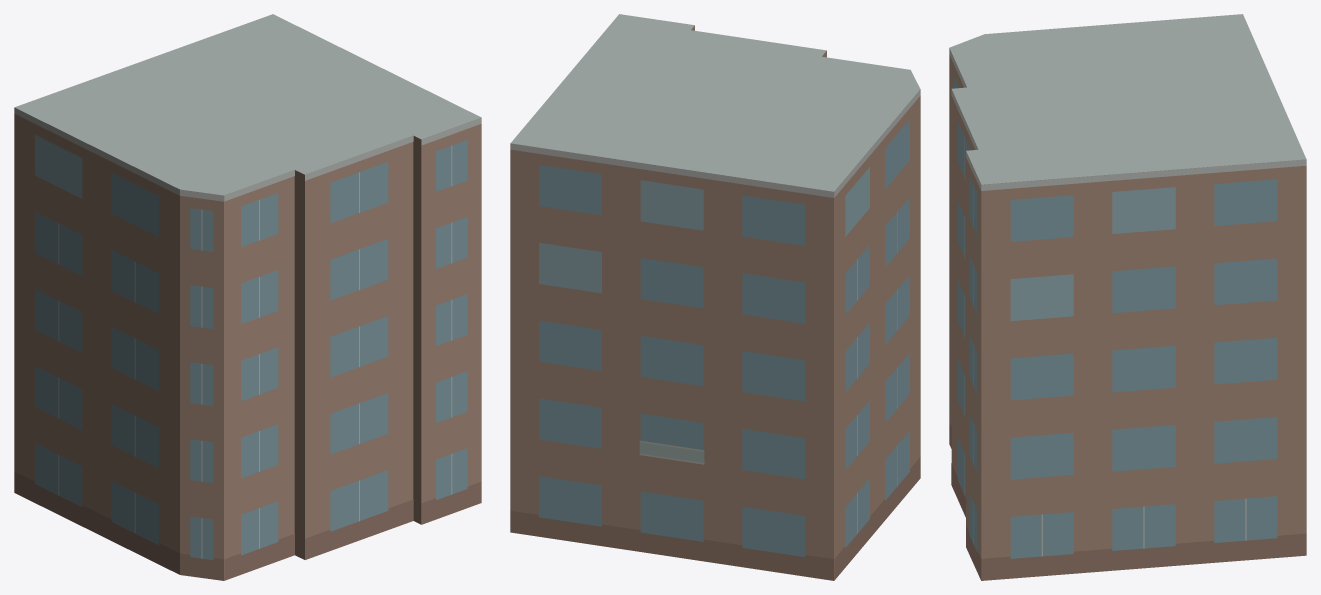
File: survey-upis-32950586.glb
3 views of the same model, side by side, from view 1: azimuth 30°, elevation 25°; view 2: azimuth 150°, elevation 25°; view 3: azimuth 270°, elevation 25° (orthographic). The views are drawn at different scales.
Visible parts, largest first — view 1: survey-upis-32950586.tmp; view 2: survey-upis-32950586.tmp; view 3: survey-upis-32950586.tmp.
Part boxes in pixels (bbox=[...]): survey-upis-32950586.tmp: bbox=[14, 14, 481, 580]; survey-upis-32950586.tmp: bbox=[510, 14, 920, 580]; survey-upis-32950586.tmp: bbox=[949, 14, 1306, 580].
Bounding box in the file's own units: 14.1 × 15.25 × 12.47.
